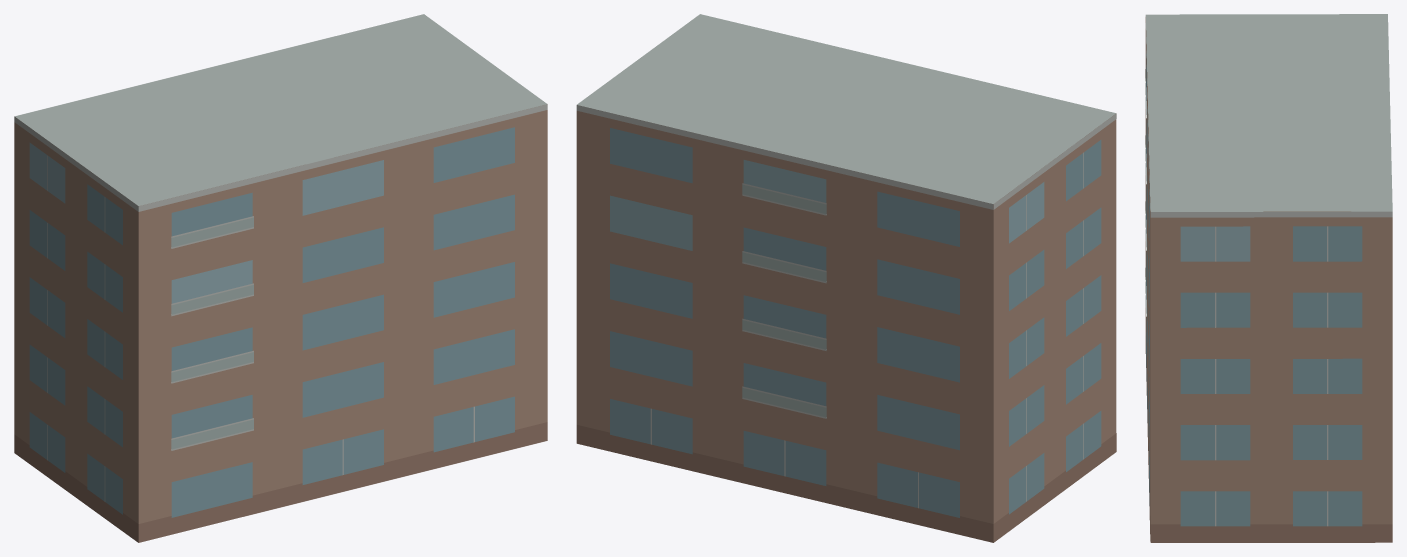
The model's file is survey-upis-32747722.glb.
The picture shows the model from 3 angles, left to right: view 1: azimuth 30°, elevation 25°; view 2: azimuth 150°, elevation 25°; view 3: azimuth 270°, elevation 25°; orthographic projection. The views are drawn at different scales.
Parts seen in each view (by area): view 1: survey-upis-32747722.tmp; view 2: survey-upis-32747722.tmp; view 3: survey-upis-32747722.tmp.
Boxes of the visible parts, <box> form: survey-upis-32747722.tmp: <box>14,14,547,542</box>; survey-upis-32747722.tmp: <box>576,14,1116,542</box>; survey-upis-32747722.tmp: <box>1145,14,1392,542</box>.
Size of the model in its own units: 18.21 by 14.2 by 9.63.
